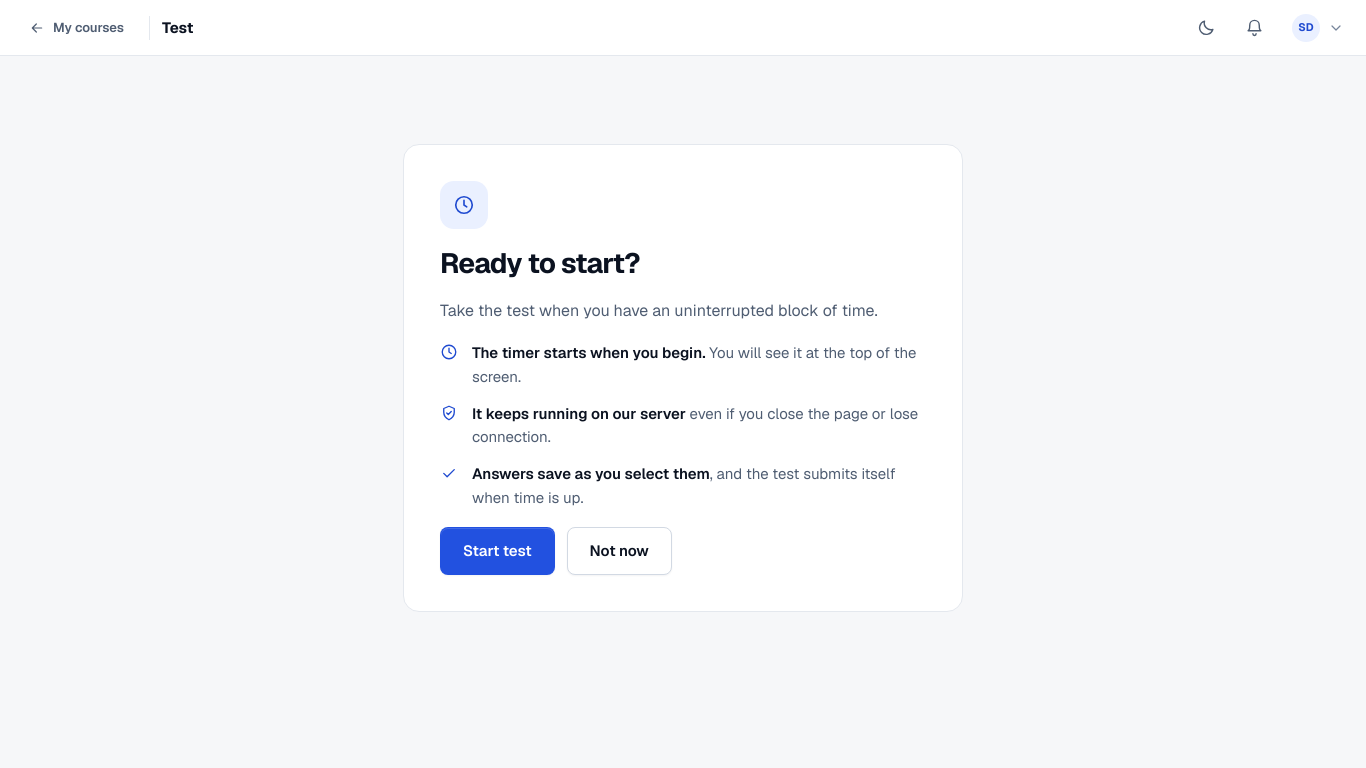
Test case: test runner › shows one question at a time, a palette, and a submit confirmation
Click the button "Start test".
click(497, 551)  # box [440,527,555,575]
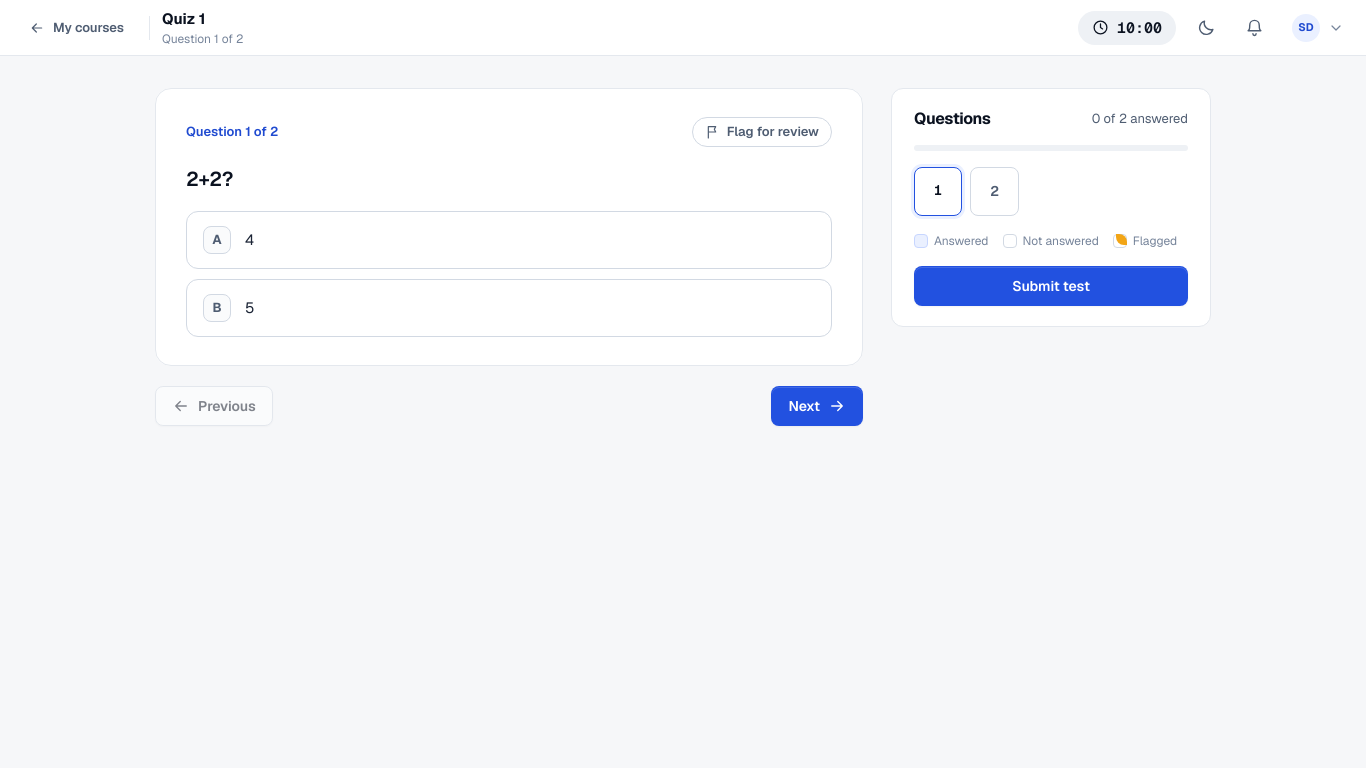
Expected: the text "3+3?" is not shown
Now the text "2+2?" is shown, box [186,166,233,192]
Click the radio button labelled "A 4".
click(217, 240)  # box [186,211,832,269]
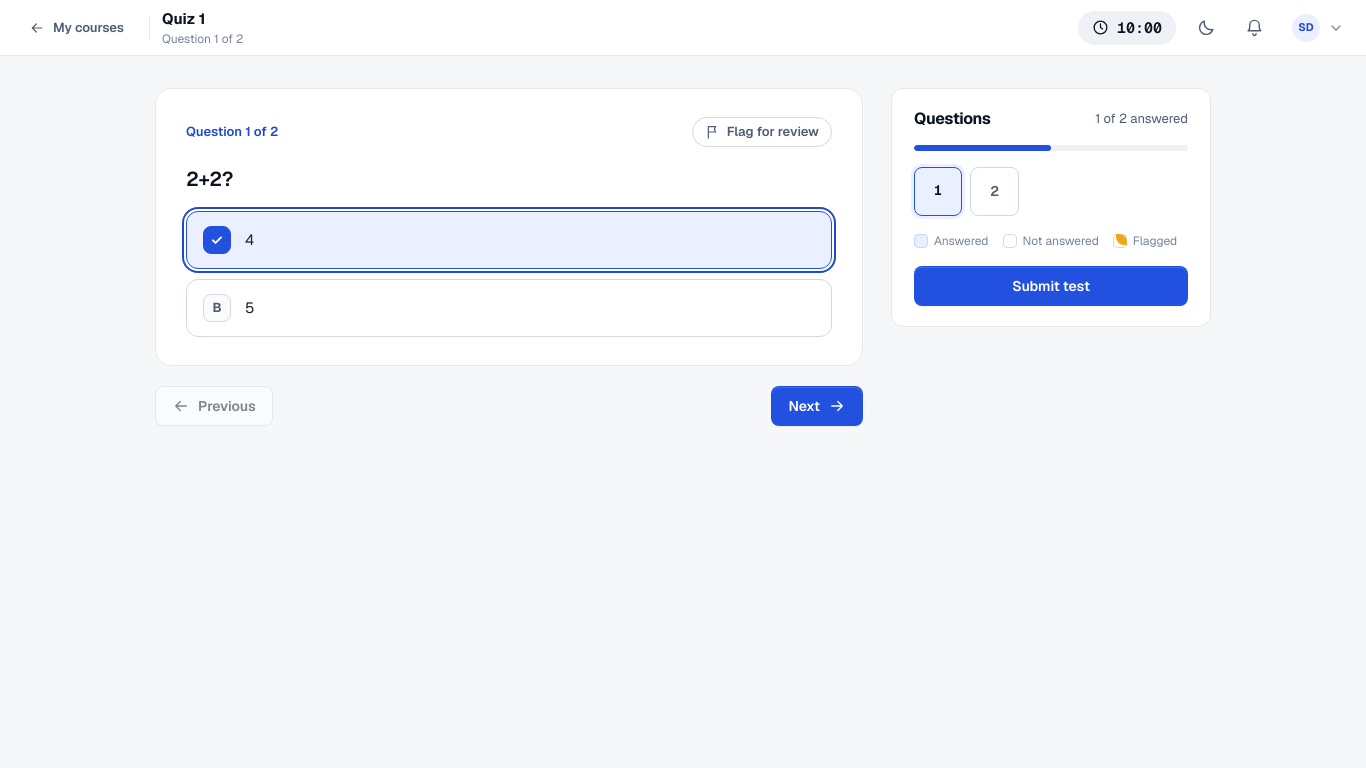
Click the button "Next".
click(817, 406)  # box [771,386,863,426]
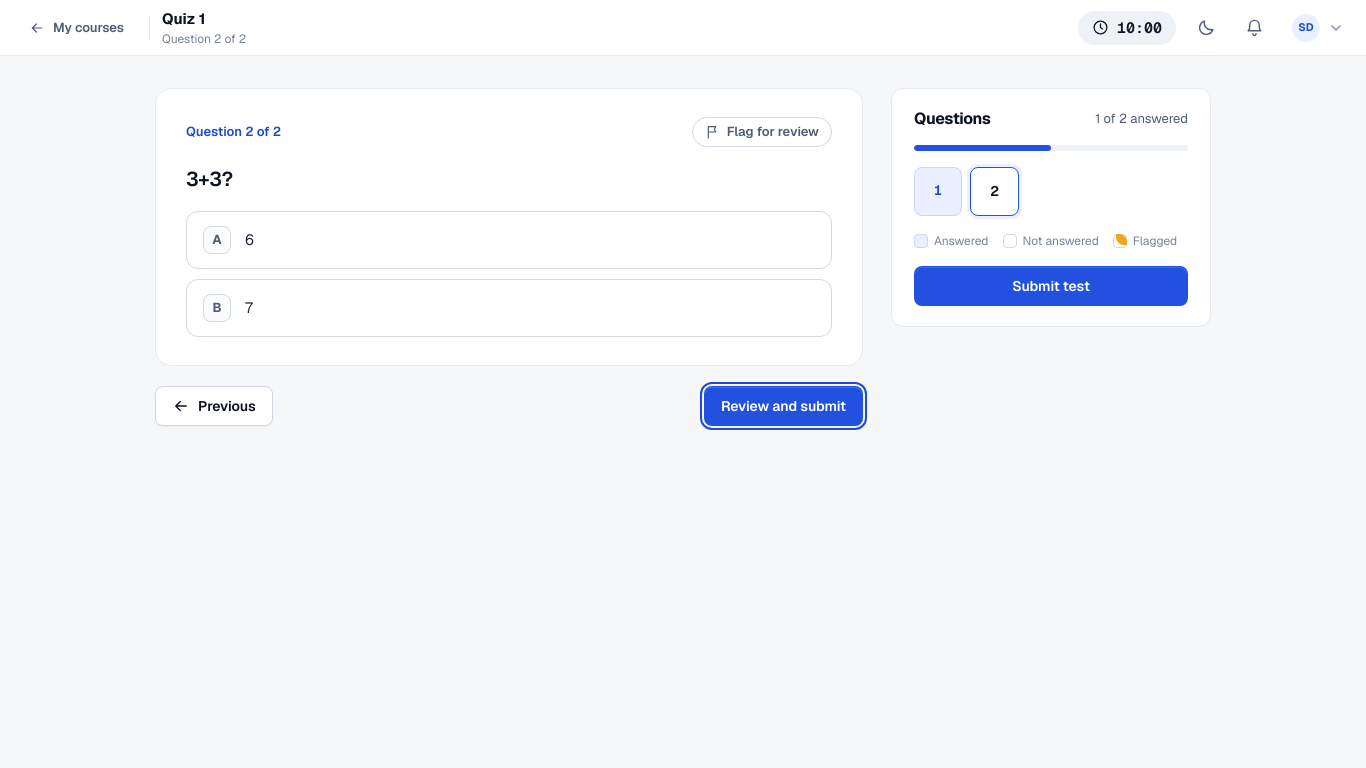
Now the text "3+3?" is shown, box [186,166,233,192]
Click the button "Submit test".
click(1051, 286)  # box [914,266,1188,306]
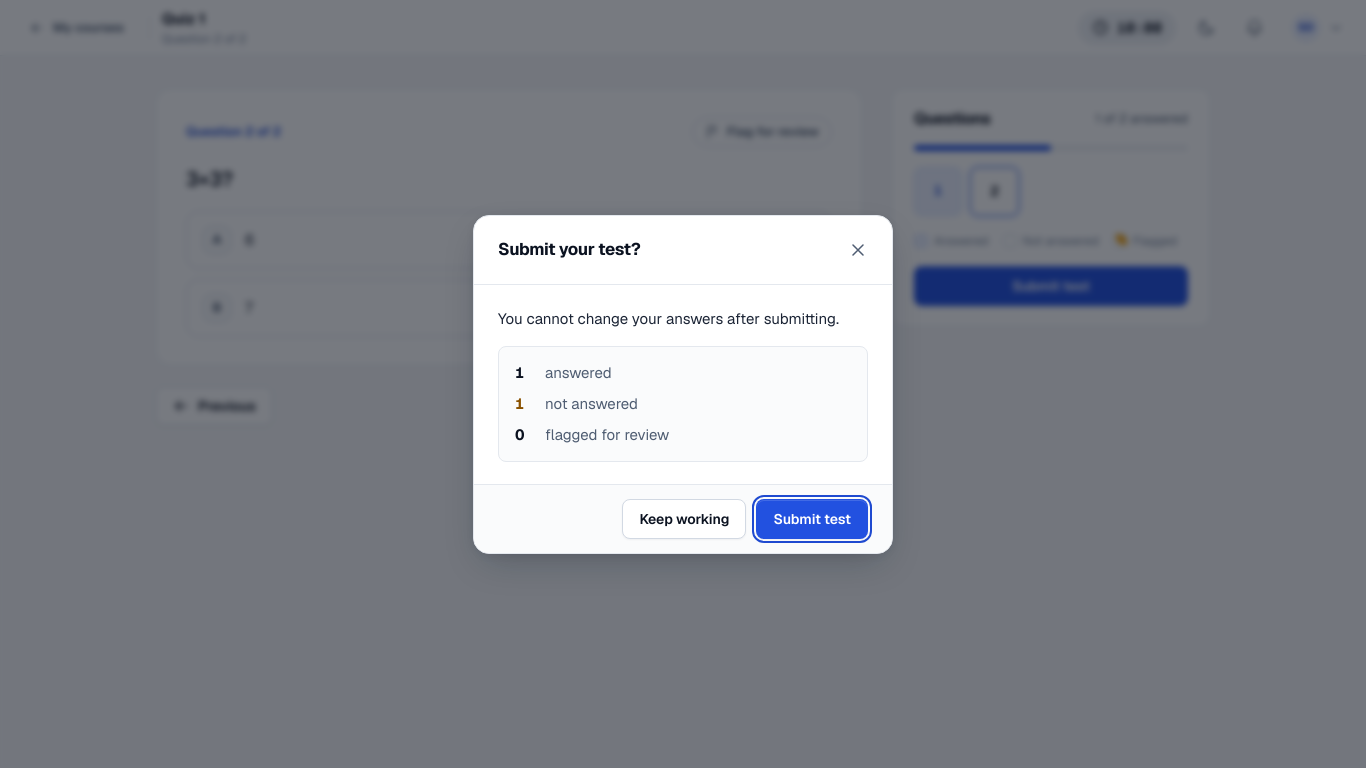
Now the list item "1 not answered" is shown, box [515,394,638,413]
